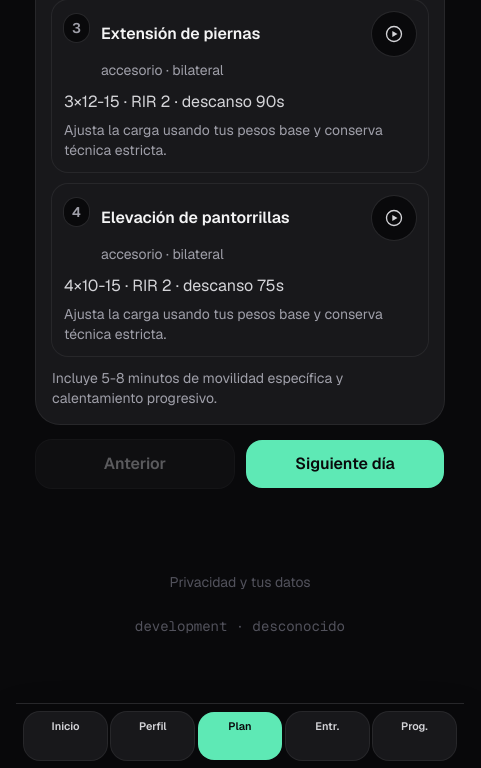
Test: PlanDetailContent › steps through days with Anterior/Siguiente día, disabling at the edges
The image size is (481, 768).
(page scrolled)
Check: the button "Anterior" is disabled, box [36,440,234,488]
Click the button "Siguiente día". click: [345, 464]
box: [246,440,444,488]
(page scrolled)
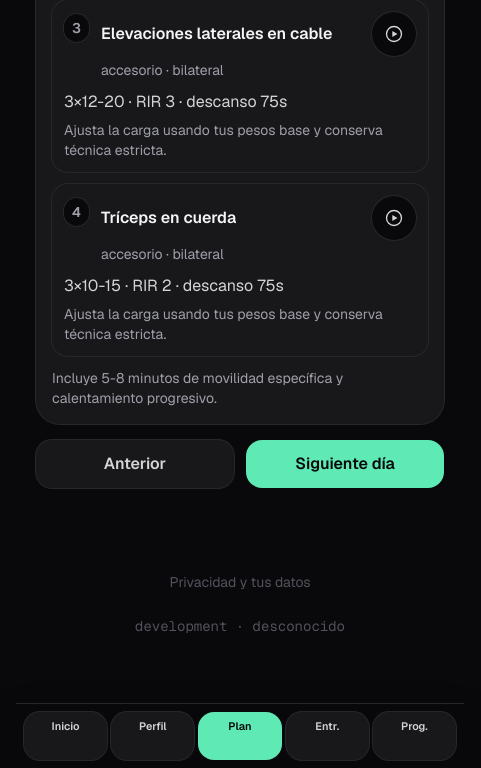
Check: the button "Anterior" is enabled, box [36,440,234,488]
